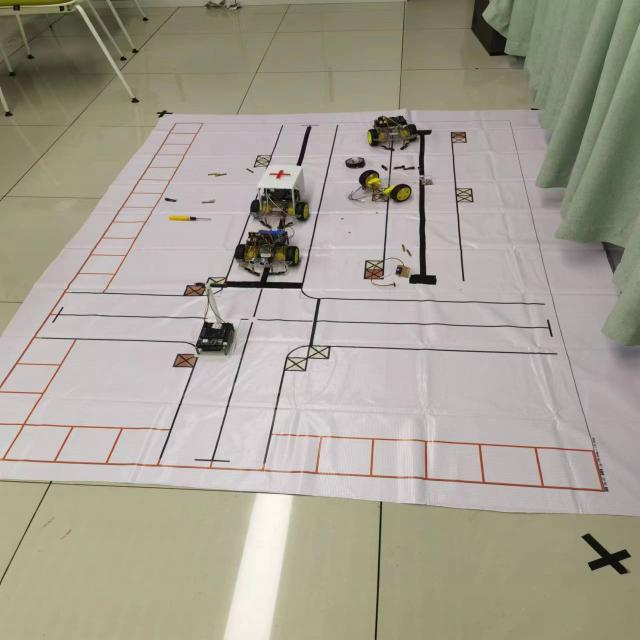RedCross: (267, 167, 292, 181)
